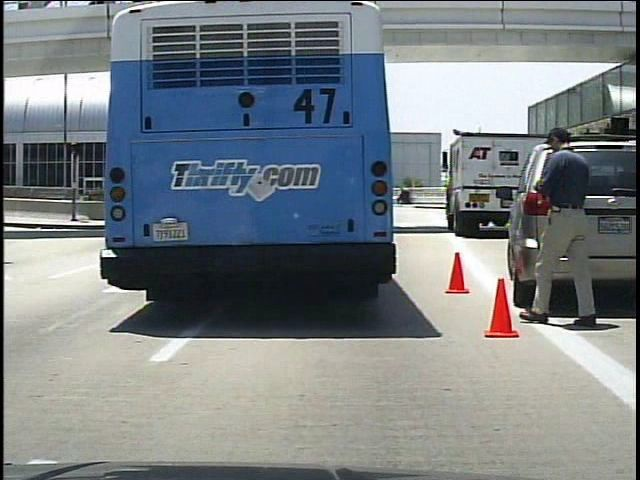person: (512, 119, 601, 337)
